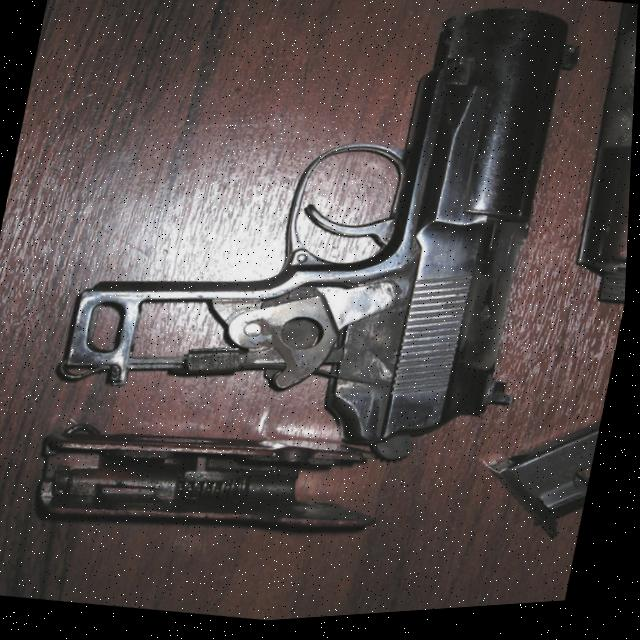pistol: (44, 0, 590, 490)
